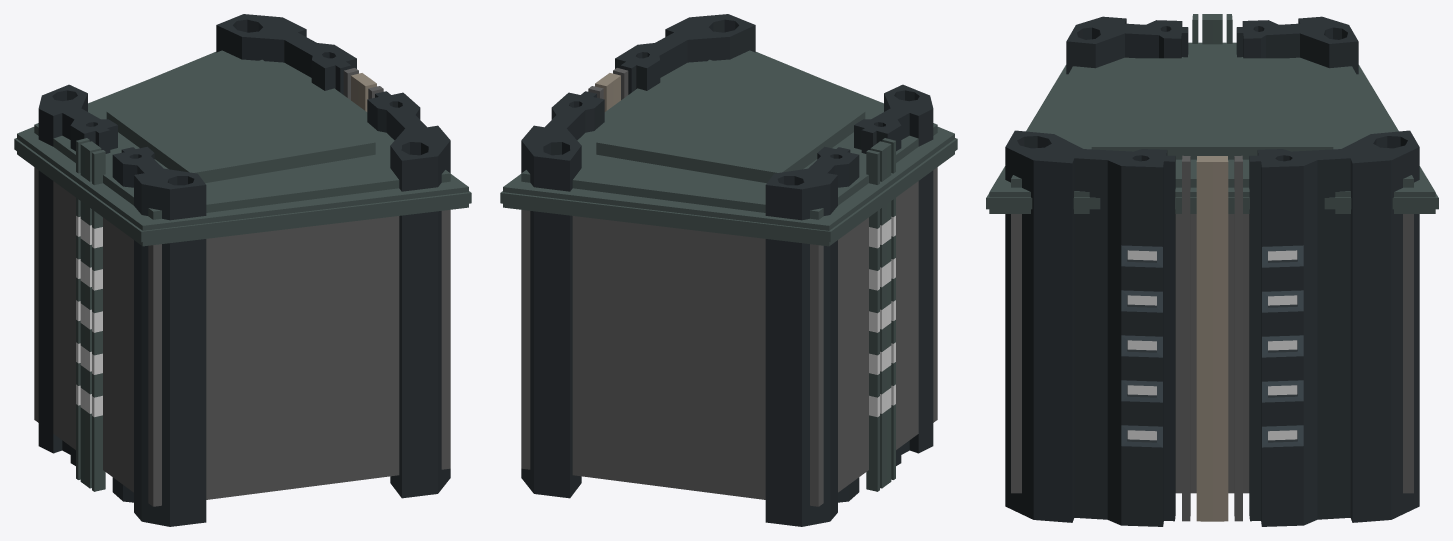
Rendered from building_57.fbx.
3 renders of one model, left to right at view 1: azimuth 30°, elevation 25°; view 2: azimuth 150°, elevation 25°; view 3: azimuth 270°, elevation 25°, orthographic. The views are drawn at different scales.
Parts seen in each view (by area): view 1: building_57; view 2: building_57; view 3: building_57.
Boxes of the visible parts, box(x1,y1,x2,y2) form: building_57: box(14, 14, 471, 526); building_57: box(500, 14, 957, 526); building_57: box(986, 14, 1438, 526).
Bounding box in the file's own units: 858 × 915 × 1044.
